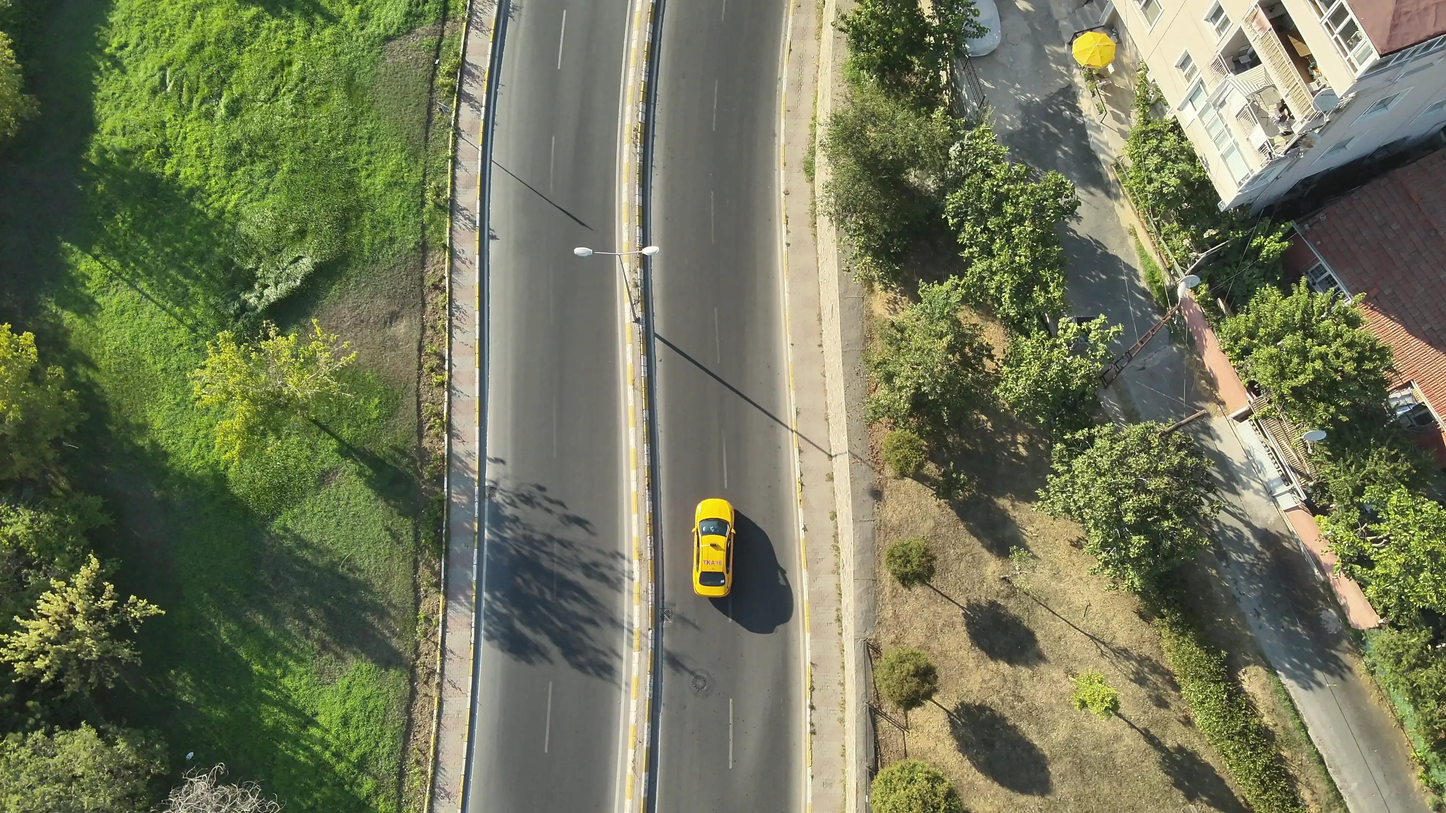vehicle: (693, 492, 736, 600)
